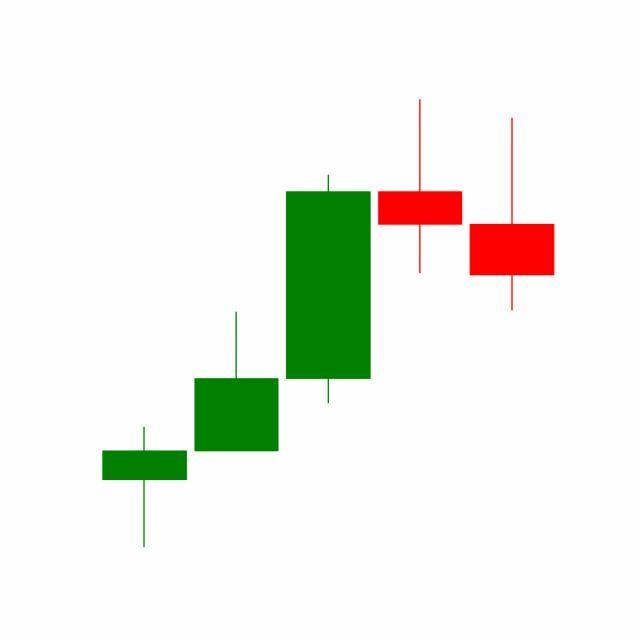Spinning Top: (374, 97, 468, 276)
